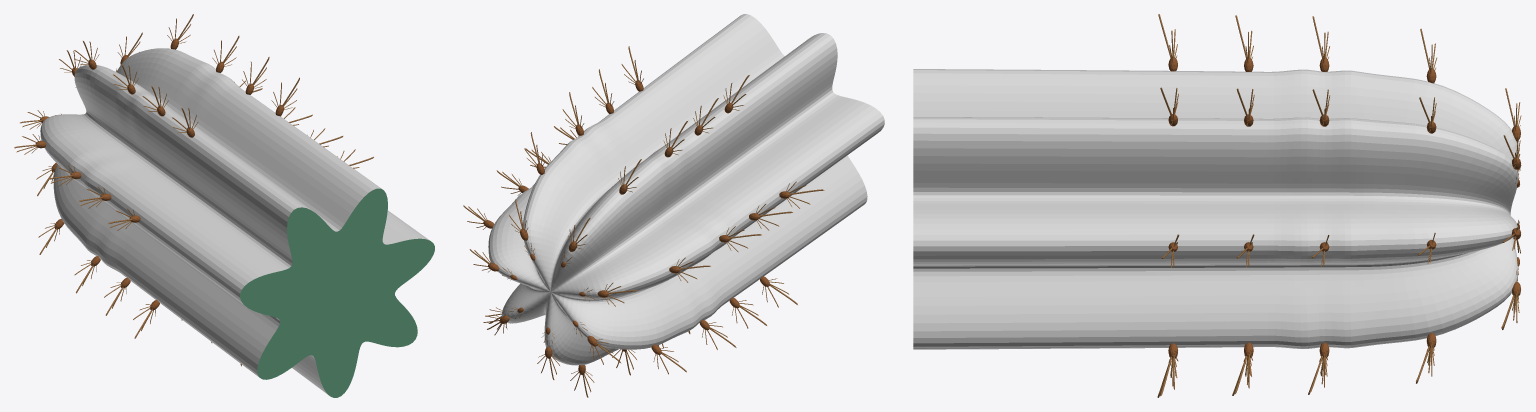
Rendered from frame-072.glb.
3 views of the same model, side by side, from view 1: azimuth 30°, elevation 25°; view 2: azimuth 150°, elevation 25°; view 3: azimuth 270°, elevation 25° (orthographic). The views are drawn at different scales.
Parts seen in each view (by area): view 1: WACHUMA_Pachanoi_Frame_072; view 2: WACHUMA_Pachanoi_Frame_072; view 3: WACHUMA_Pachanoi_Frame_072.
Boxes of the visible parts, x1,y1,x2,y2 form: WACHUMA_Pachanoi_Frame_072: (14,14,434,397); WACHUMA_Pachanoi_Frame_072: (463,14,884,397); WACHUMA_Pachanoi_Frame_072: (913,14,1521,397).
Bounding box in the file's own units: 1.18 × 1.15 × 1.82.
